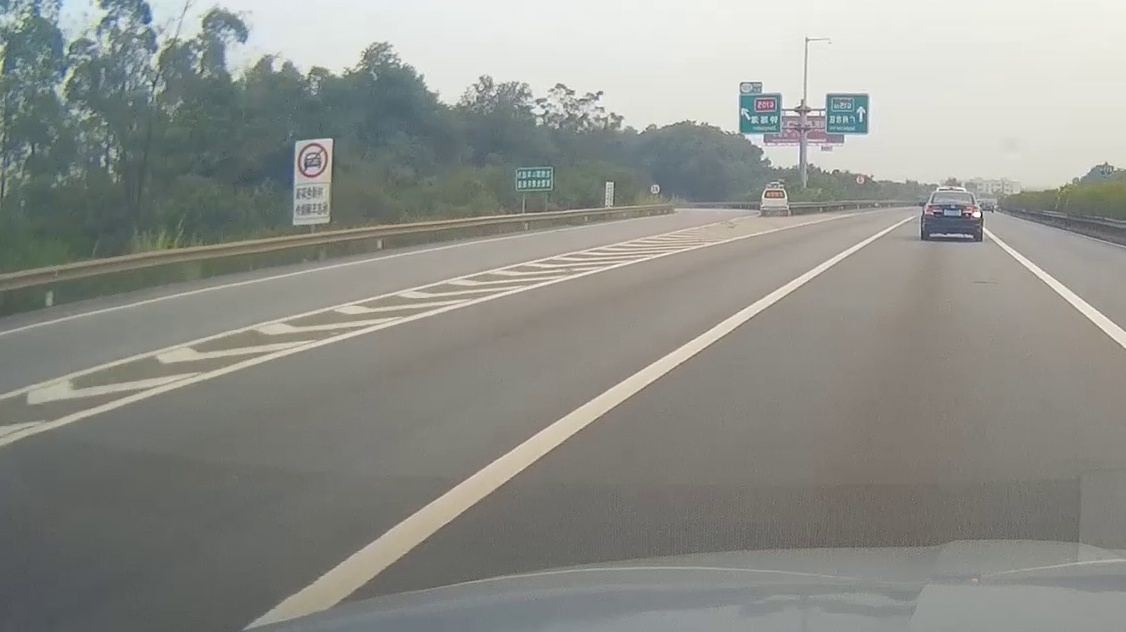L_light: (924, 205, 943, 215)
R_light: (962, 206, 981, 218)
T_light: (948, 193, 957, 195)
day-right: (921, 190, 983, 241)
